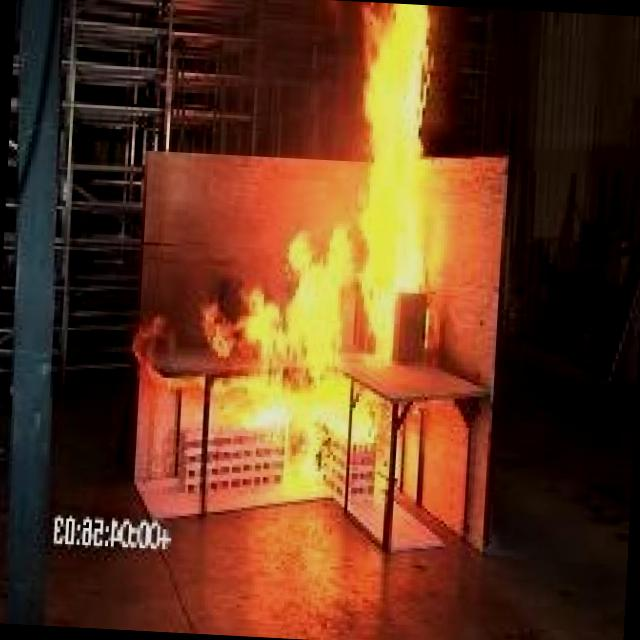fire: (121, 0, 525, 526)
